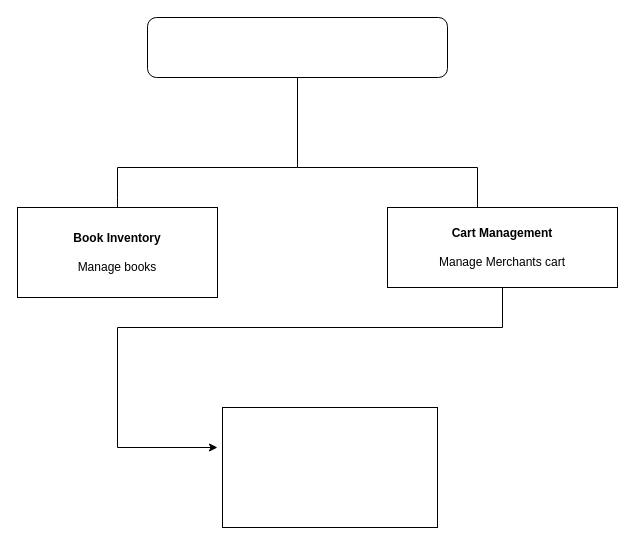
Some shapes in this 635 by 545 pixel diagram are drawn without their labels. The shapes that lost their labels are listed below. From the top down, each one's box as (x1, y1, x2, y2) in pixels, then its label:
(146, 16, 448, 78): Online Book Store
(222, 406, 438, 528): Checkout/ Payment Simulate Payment Manage Purchase hsitory
